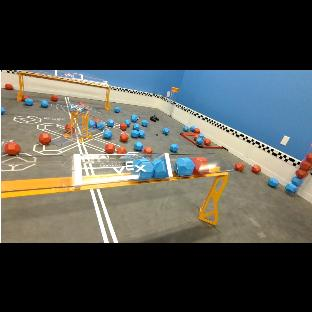Autolimit: (90, 188, 118, 242), (77, 136, 87, 153), (65, 96, 69, 105)
Goal: (1, 153, 232, 224), (19, 69, 110, 107)
Loader: (169, 86, 179, 116)
Low_goal: (50, 127, 86, 146), (88, 125, 102, 134), (77, 124, 82, 126)
Med_goal: (54, 102, 102, 138), (65, 129, 73, 136)
Parking-R: (180, 131, 224, 147)
V5_BLUE: (119, 114, 145, 137), (89, 114, 114, 129), (130, 114, 145, 137), (175, 155, 193, 174), (154, 154, 168, 176), (68, 101, 91, 112), (94, 118, 114, 129), (288, 176, 300, 191), (119, 119, 130, 130), (268, 176, 278, 186), (195, 132, 204, 143), (138, 157, 151, 164), (134, 141, 143, 150), (170, 142, 179, 151), (120, 131, 128, 141), (120, 131, 128, 140), (135, 141, 143, 150), (103, 129, 112, 137), (104, 129, 112, 137), (24, 97, 32, 105), (41, 98, 48, 106), (170, 143, 178, 150), (162, 127, 169, 134), (162, 126, 170, 132), (144, 146, 152, 152), (163, 126, 169, 133), (142, 119, 148, 126), (1, 103, 5, 113), (171, 143, 177, 149), (142, 119, 148, 125), (183, 125, 189, 131), (114, 107, 120, 112), (141, 171, 151, 174), (190, 125, 195, 131), (66, 123, 70, 130)
V5_RED: (297, 150, 311, 176), (291, 171, 309, 190), (5, 141, 20, 153), (198, 155, 206, 171), (40, 134, 50, 142), (120, 129, 128, 139), (106, 143, 115, 151), (203, 137, 210, 145), (236, 163, 243, 170), (5, 83, 13, 89), (253, 165, 260, 171), (22, 94, 30, 99), (51, 94, 57, 100)
blueingoal: (131, 156, 172, 178), (174, 156, 195, 175)
pieces: (276, 144, 311, 195)
redingoal: (192, 156, 209, 173)
